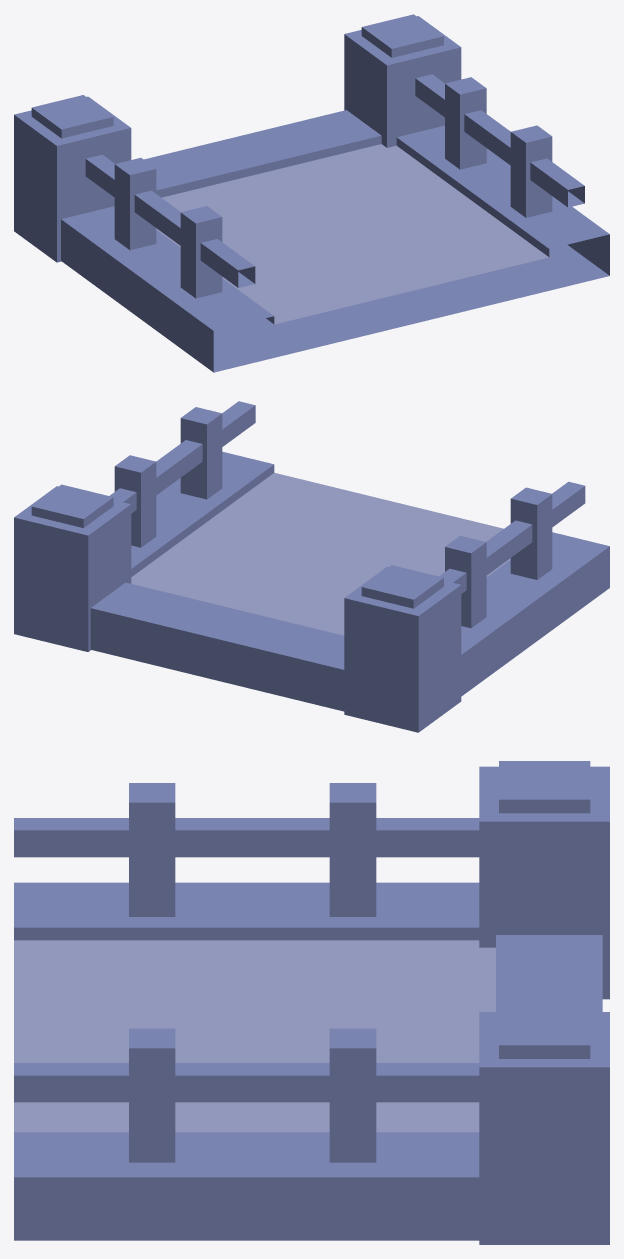
The model's file is bridge_1_part_5.fbx.
3 renders of one model, top to bottom at view 1: azimuth 30°, elevation 25°; view 2: azimuth 150°, elevation 25°; view 3: azimuth 270°, elevation 25°, orthographic. The views are drawn at different scales.
Visible parts, largest first — view 1: bridge_1_part_5; view 2: bridge_1_part_5; view 3: bridge_1_part_5.
Part boxes in pixels (x1=…): bridge_1_part_5: x1=14, y1=14, x2=609, y2=372; bridge_1_part_5: x1=14, y1=401, x2=609, y2=732; bridge_1_part_5: x1=14, y1=761, x2=609, y2=1244.
Size of the model in its own units: 9.8 by 2.91 by 8.21.
